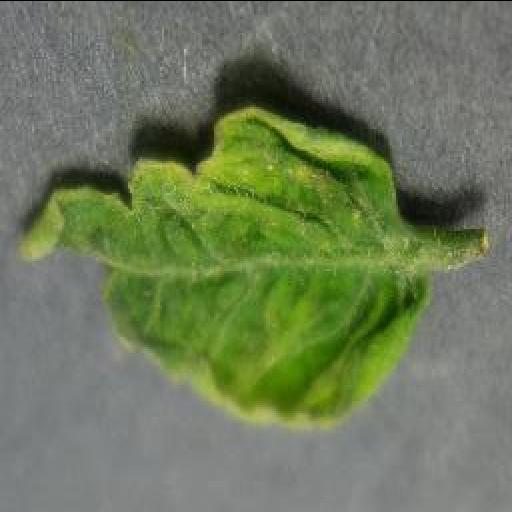disease_tomato: (14, 100, 420, 426)
